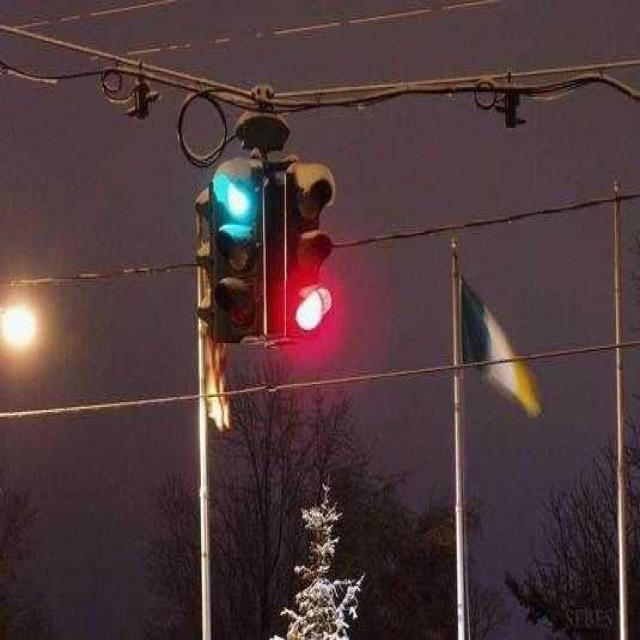Traffic Light -Green-: (200, 146, 270, 351)
Traffic Light -Red-: (279, 153, 340, 346)
